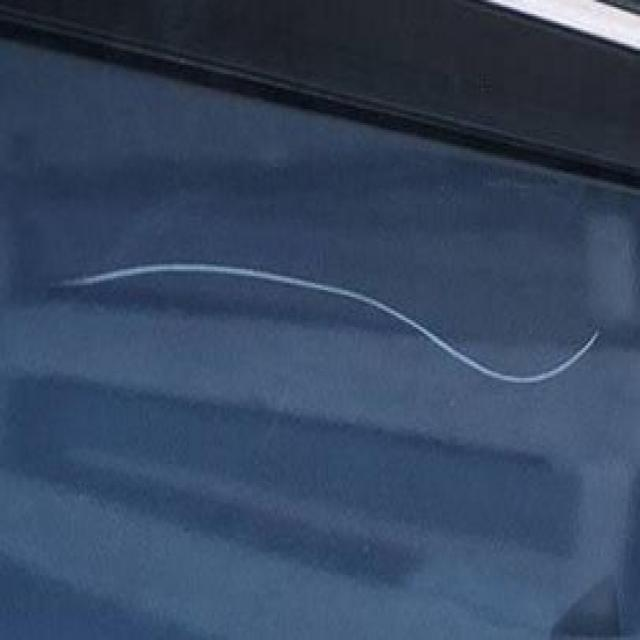scratch: (36, 249, 606, 393)
